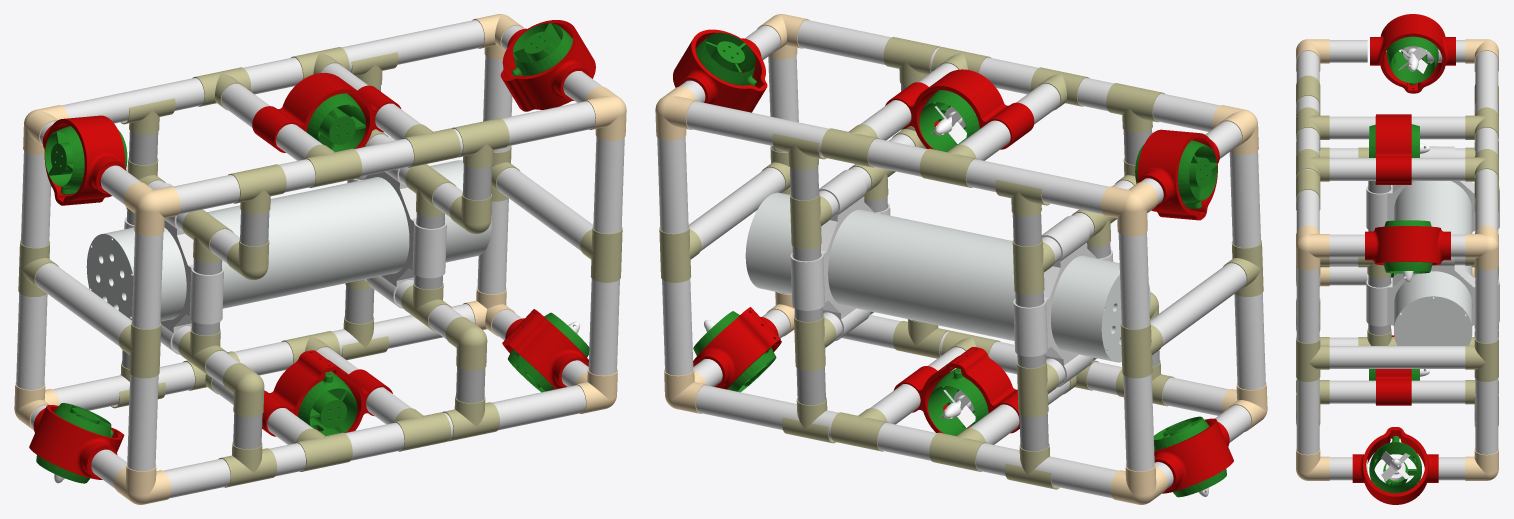
File: MARVIC 1.0.glb
The picture shows the model from 3 angles, left to right: view 1: azimuth 30°, elevation 25°; view 2: azimuth 150°, elevation 25°; view 3: azimuth 270°, elevation 25°; orthographic projection. The views are drawn at different scales.
Parts seen in each view (by area): view 1: Node4, Node8, Node3, Node6, Node2, Node5, Node7; view 2: Node4, Node8, Node3, Node6, Node2, Node5, Node7, Node1; view 3: Node4, Node6, Node8, Node3, Node5, Node2, Node1, Node7.
Boxes of the visible parts, <box> form: Node4: <box>16,20,624,498</box>; Node8: <box>18,47,622,487</box>; Node3: <box>86,160,491,321</box>; Node6: <box>29,20,595,479</box>; Node2: <box>36,23,589,483</box>; Node5: <box>14,14,626,504</box>; Node7: <box>122,86,492,449</box>; Node4: <box>657,20,1265,498</box>; Node8: <box>659,37,1263,489</box>; Node3: <box>745,192,1150,362</box>; Node6: <box>673,29,1233,493</box>; Node2: <box>693,32,1226,497</box>; Node5: <box>655,14,1267,504</box>; Node7: <box>790,84,1159,451</box>; Node1: <box>704,106,1208,496</box>; Node4: <box>1296,40,1499,480</box>; Node6: <box>1352,14,1455,504</box>; Node8: <box>1296,75,1498,426</box>; Node3: <box>1394,146,1472,345</box>; Node5: <box>1296,39,1498,480</box>; Node2: <box>1369,36,1438,493</box>; Node1: <box>1381,46,1429,481</box>; Node7: <box>1368,181,1390,335</box>.
Bounding box in the file's own units: 0.717 × 0.472 × 0.2855.
